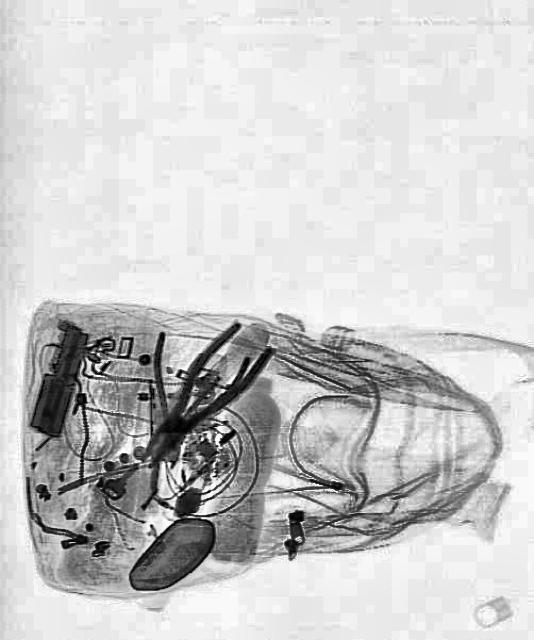Pliers: (125, 310, 275, 488), (114, 316, 250, 479)
